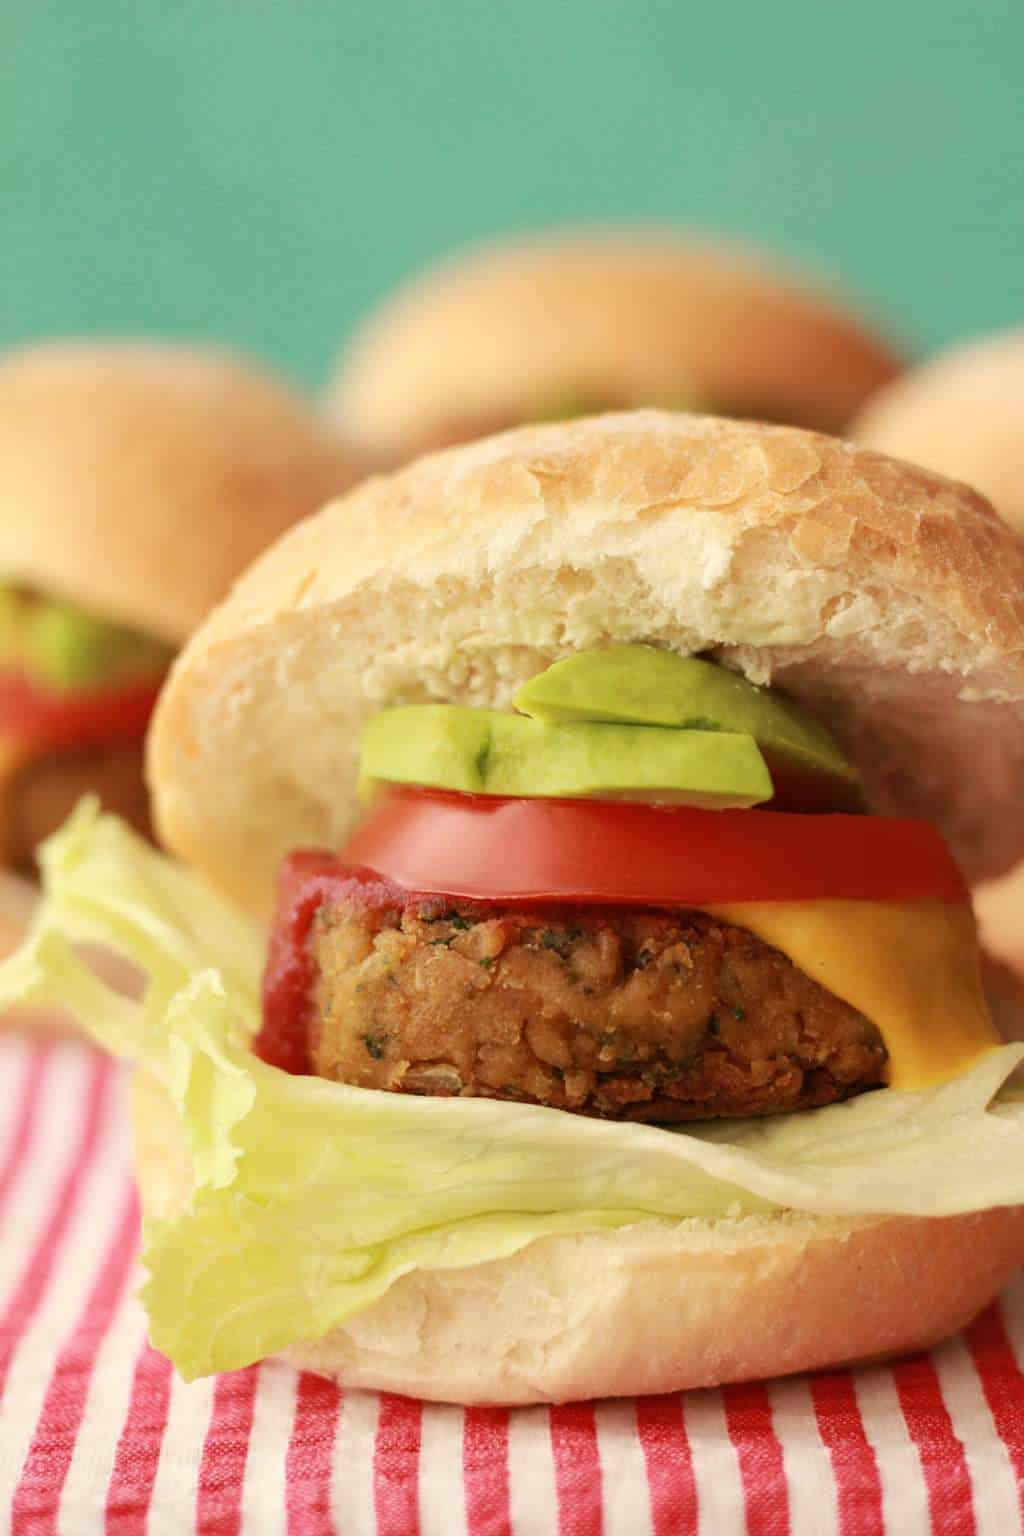hamburger_buns: (85, 422, 1024, 770), (191, 1107, 1024, 1435)
